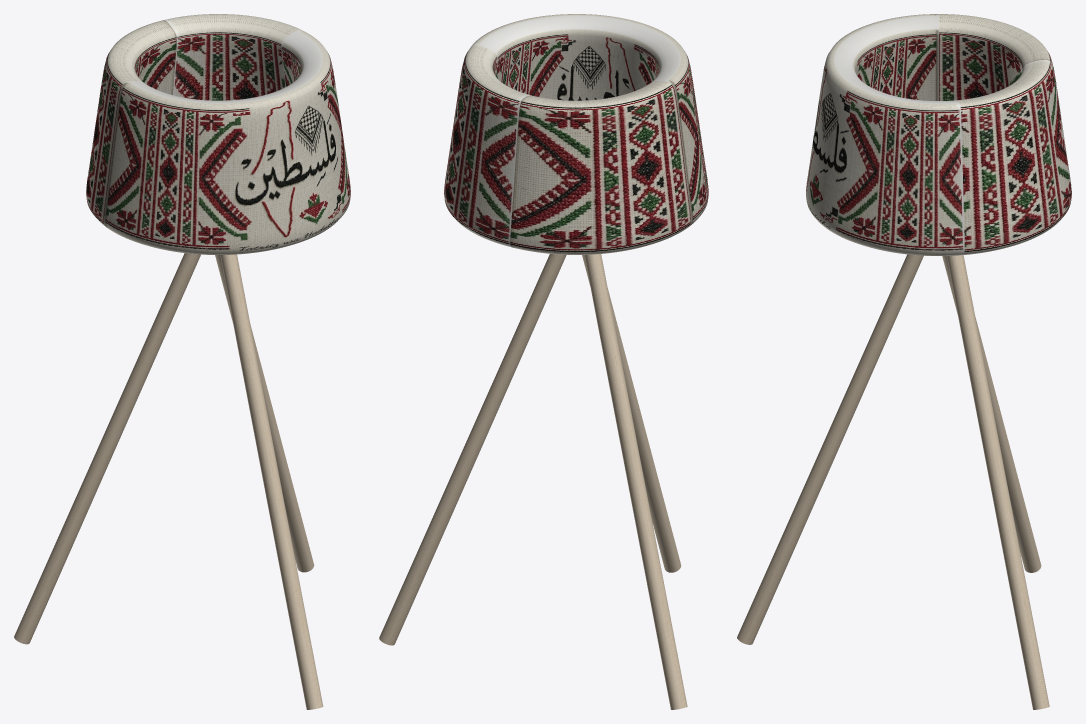
The model's file is accessories1.glb.
3 renders of one model, left to right at view 1: azimuth 30°, elevation 25°; view 2: azimuth 150°, elevation 25°; view 3: azimuth 270°, elevation 25°, orthographic.
Parts seen in each view (by area): view 1: Cylinder.001, Cylinder.003, Cylinder.005, Cylinder.004; view 2: Cylinder.001, Cylinder.005, Cylinder.004, Cylinder.003; view 3: Cylinder.001, Cylinder.004, Cylinder.003, Cylinder.005.
Part boxes in pixels (bbox=[...]): Cylinder.001: bbox=[86, 14, 350, 254]; Cylinder.003: bbox=[220, 254, 323, 709]; Cylinder.005: bbox=[14, 253, 200, 644]; Cylinder.004: bbox=[215, 255, 314, 572]; Cylinder.001: bbox=[444, 14, 708, 254]; Cylinder.005: bbox=[584, 254, 687, 709]; Cylinder.004: bbox=[379, 254, 566, 645]; Cylinder.003: bbox=[582, 255, 681, 572]; Cylinder.001: bbox=[806, 14, 1071, 255]; Cylinder.004: bbox=[946, 255, 1049, 709]; Cylinder.003: bbox=[737, 254, 923, 644]; Cylinder.005: bbox=[942, 256, 1041, 572].
Size of the model in its own units: 0.7638 by 1.4 by 0.7302.
Materials: 3 (2 with a texture image).
